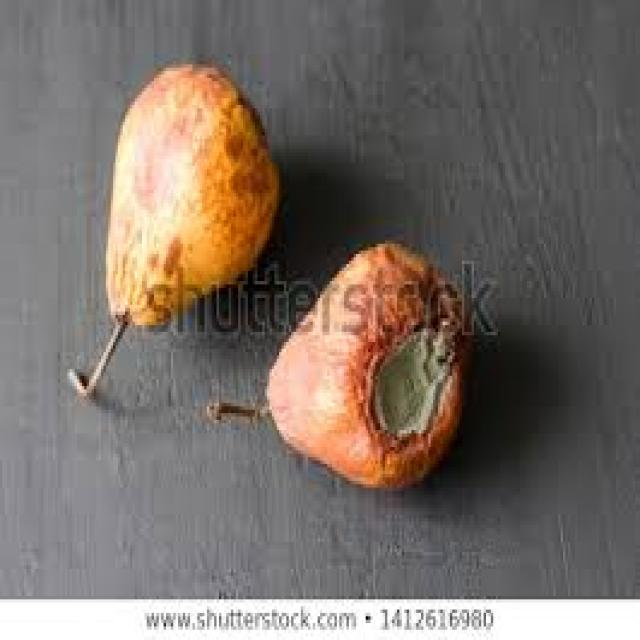food_waste: (267, 240, 464, 484), (106, 64, 277, 335)
